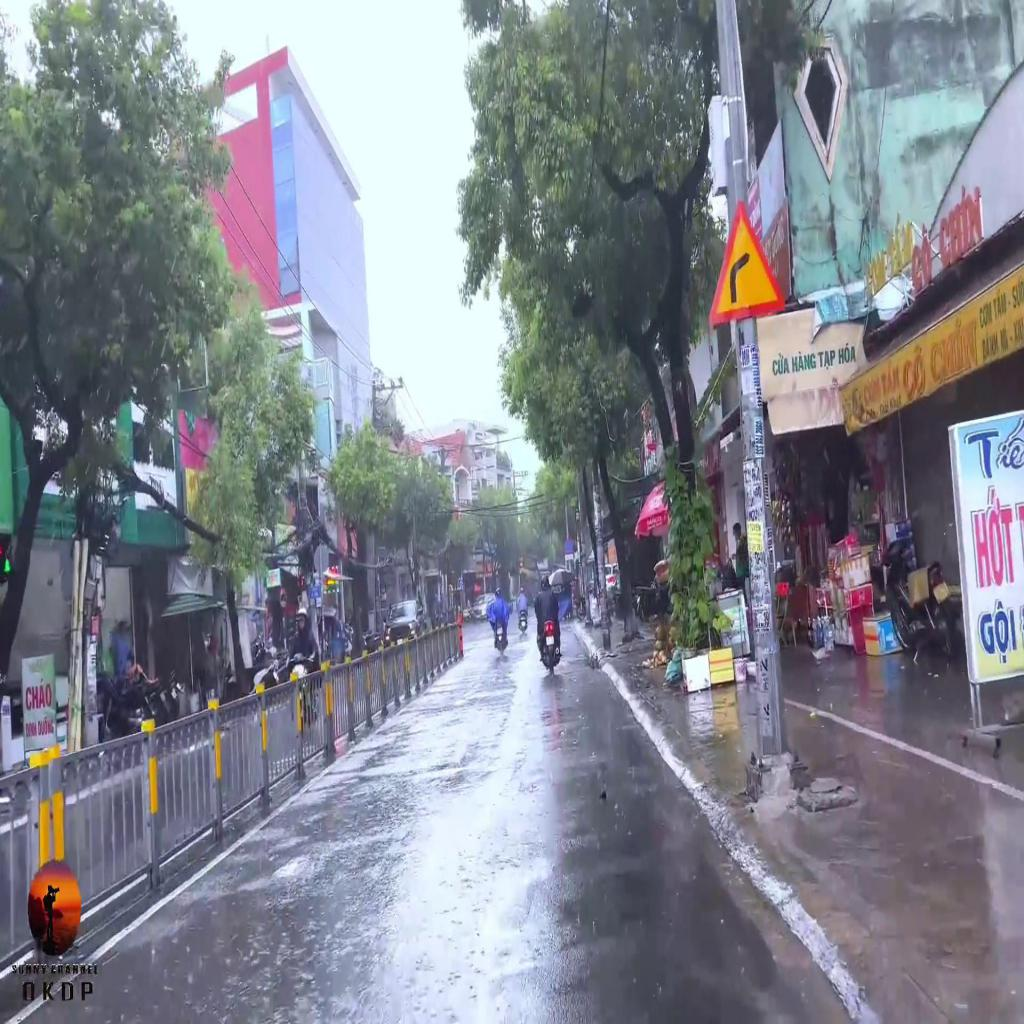cho_ngoat_nguy_hiem_ben_phai: (709, 198, 788, 326)
